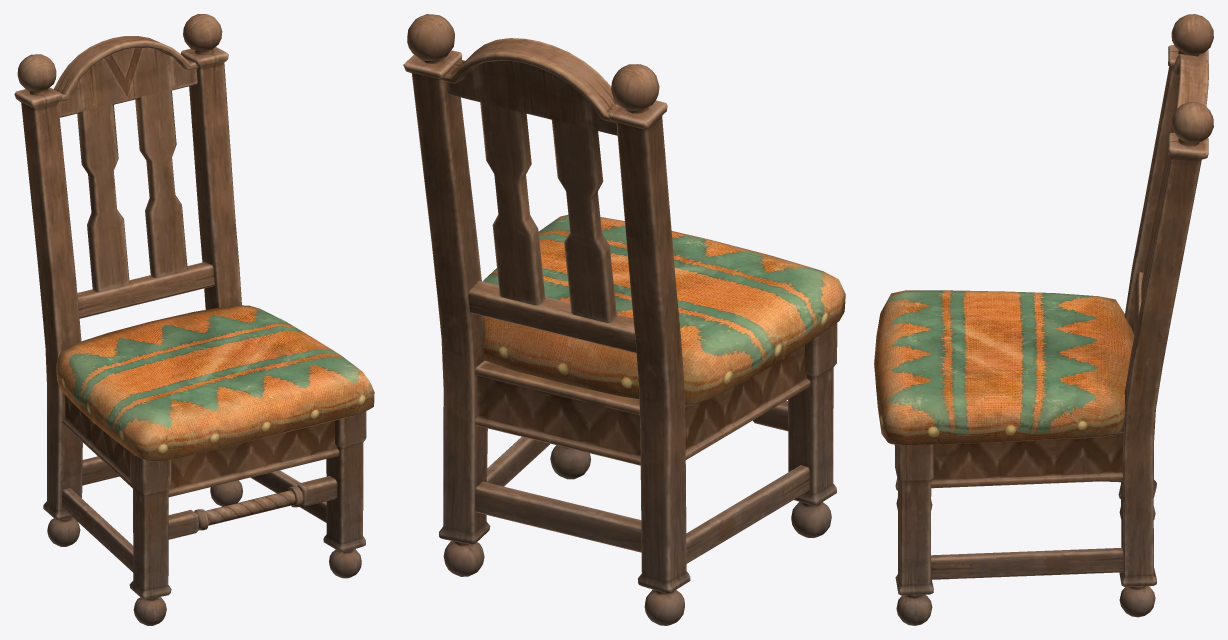
The picture shows the model from 3 angles, left to right: view 1: azimuth 30°, elevation 25°; view 2: azimuth 150°, elevation 25°; view 3: azimuth 270°, elevation 25°; orthographic projection. The views are drawn at different scales.
Visible parts, largest first — view 1: SM_Umbral_Sands_Chair_01v2_LOD0; view 2: SM_Umbral_Sands_Chair_01v2_LOD0; view 3: SM_Umbral_Sands_Chair_01v2_LOD0.
Boxes of the visible parts, <box> form: SM_Umbral_Sands_Chair_01v2_LOD0: <box>14,14,374,625</box>; SM_Umbral_Sands_Chair_01v2_LOD0: <box>403,14,845,625</box>; SM_Umbral_Sands_Chair_01v2_LOD0: <box>874,14,1213,625</box>.
Size of the model in its own units: 0.615 by 1.17 by 0.7014.
1 material, 1 textured.
